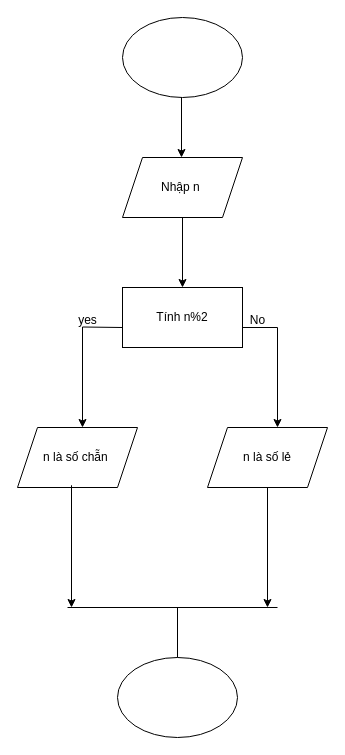
Image size: 345x755. Some labels were removed from this diagram. Each missing label, with the centre of its shape:
Bắt đầu: [182,57]
Kết thúc: [177,697]
